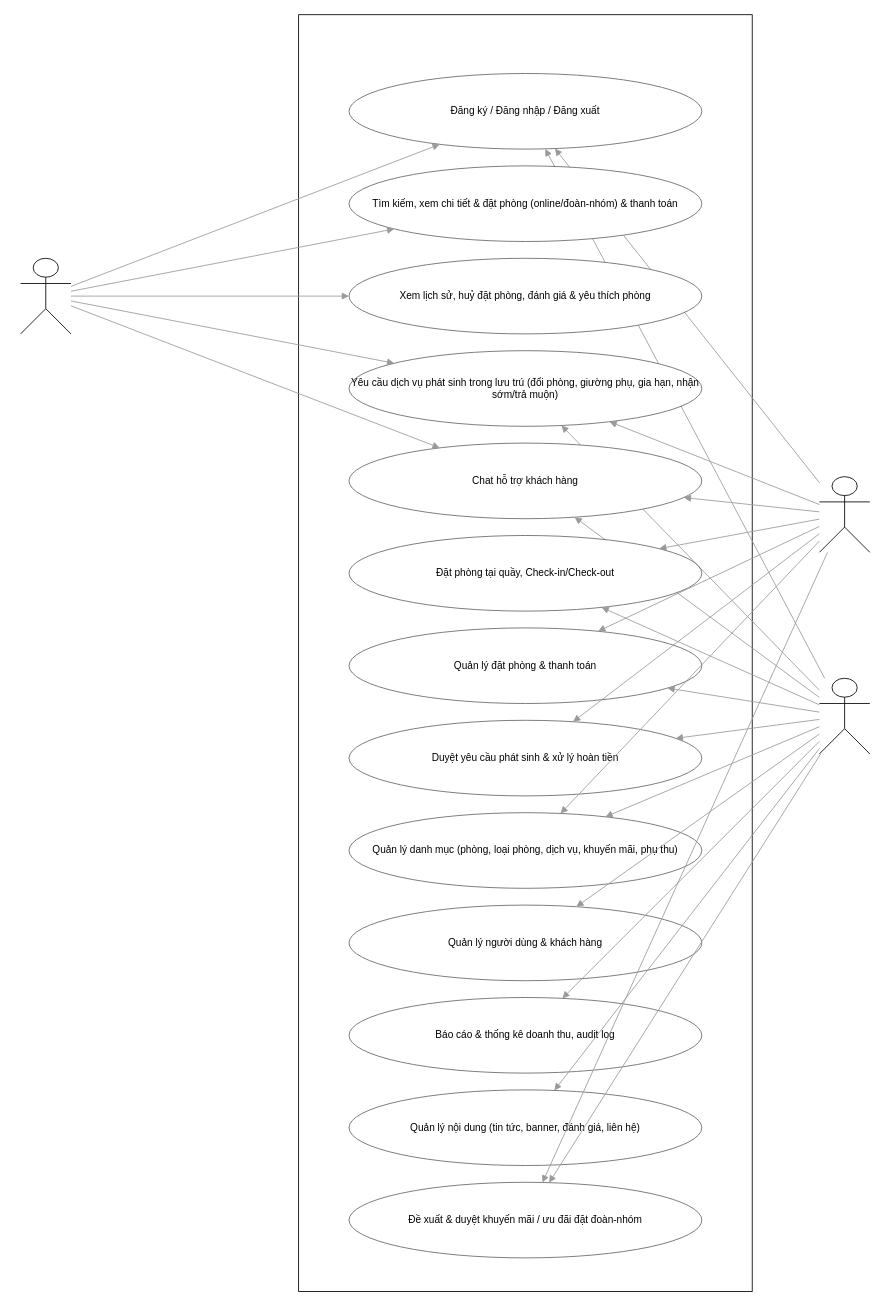
Some shapes in this 892 by 1306 pixel diagram are drawn without their labels. Each missing label, with the box of its shape:
Hệ thống Homi: (298, 14, 752, 1292)
Khách hàng: (20, 257, 71, 334)
Nhân viên: (819, 476, 870, 552)
Quản trị viên: (819, 677, 870, 754)
